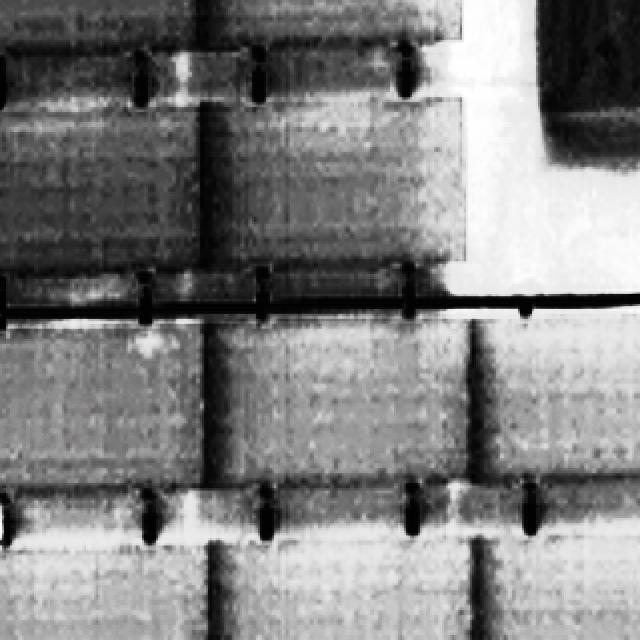Hotspots: (119, 316, 176, 380)
PV-modules: (204, 319, 476, 472), (204, 102, 468, 252), (0, 320, 201, 495), (0, 98, 200, 272), (470, 316, 640, 468), (207, 548, 474, 639), (0, 548, 214, 640), (478, 540, 640, 638), (198, 0, 464, 37), (0, 0, 196, 50)
